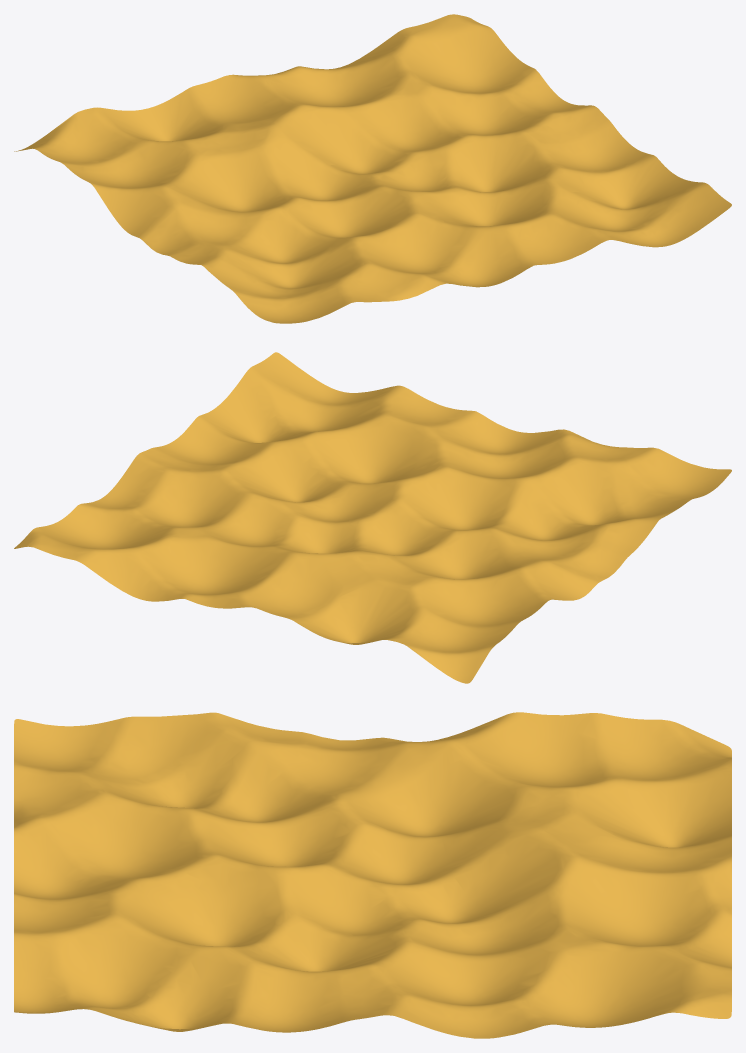
The model's file is sand-opt.glb.
3 views of the same model, one above another, from view 1: azimuth 30°, elevation 25°; view 2: azimuth 150°, elevation 25°; view 3: azimuth 270°, elevation 25° (orthographic). The views are drawn at different scales.
Parts seen in each view (by area): view 1: Plane; view 2: Plane; view 3: Plane.
Part boxes in pixels (<box>): Plane: <box>14,14,731,323</box>; Plane: <box>14,352,731,683</box>; Plane: <box>14,712,731,1038</box>.
Size of the model in its own units: 400 by 32.96 by 400.
